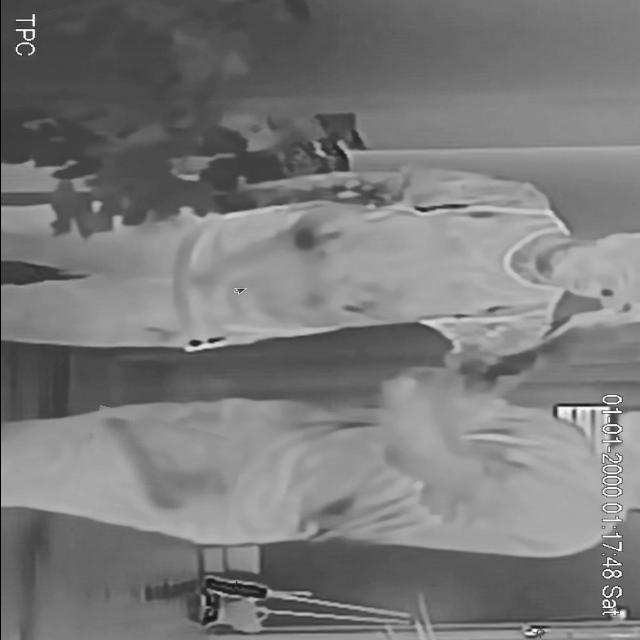Weapon: (80, 413, 242, 522)
